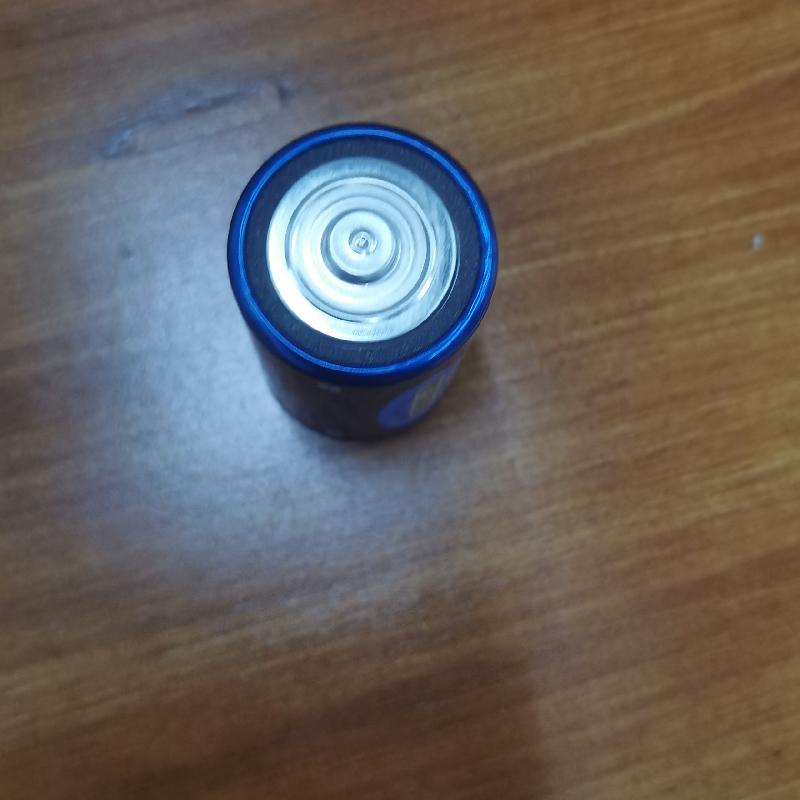battery: (218, 121, 504, 390)
